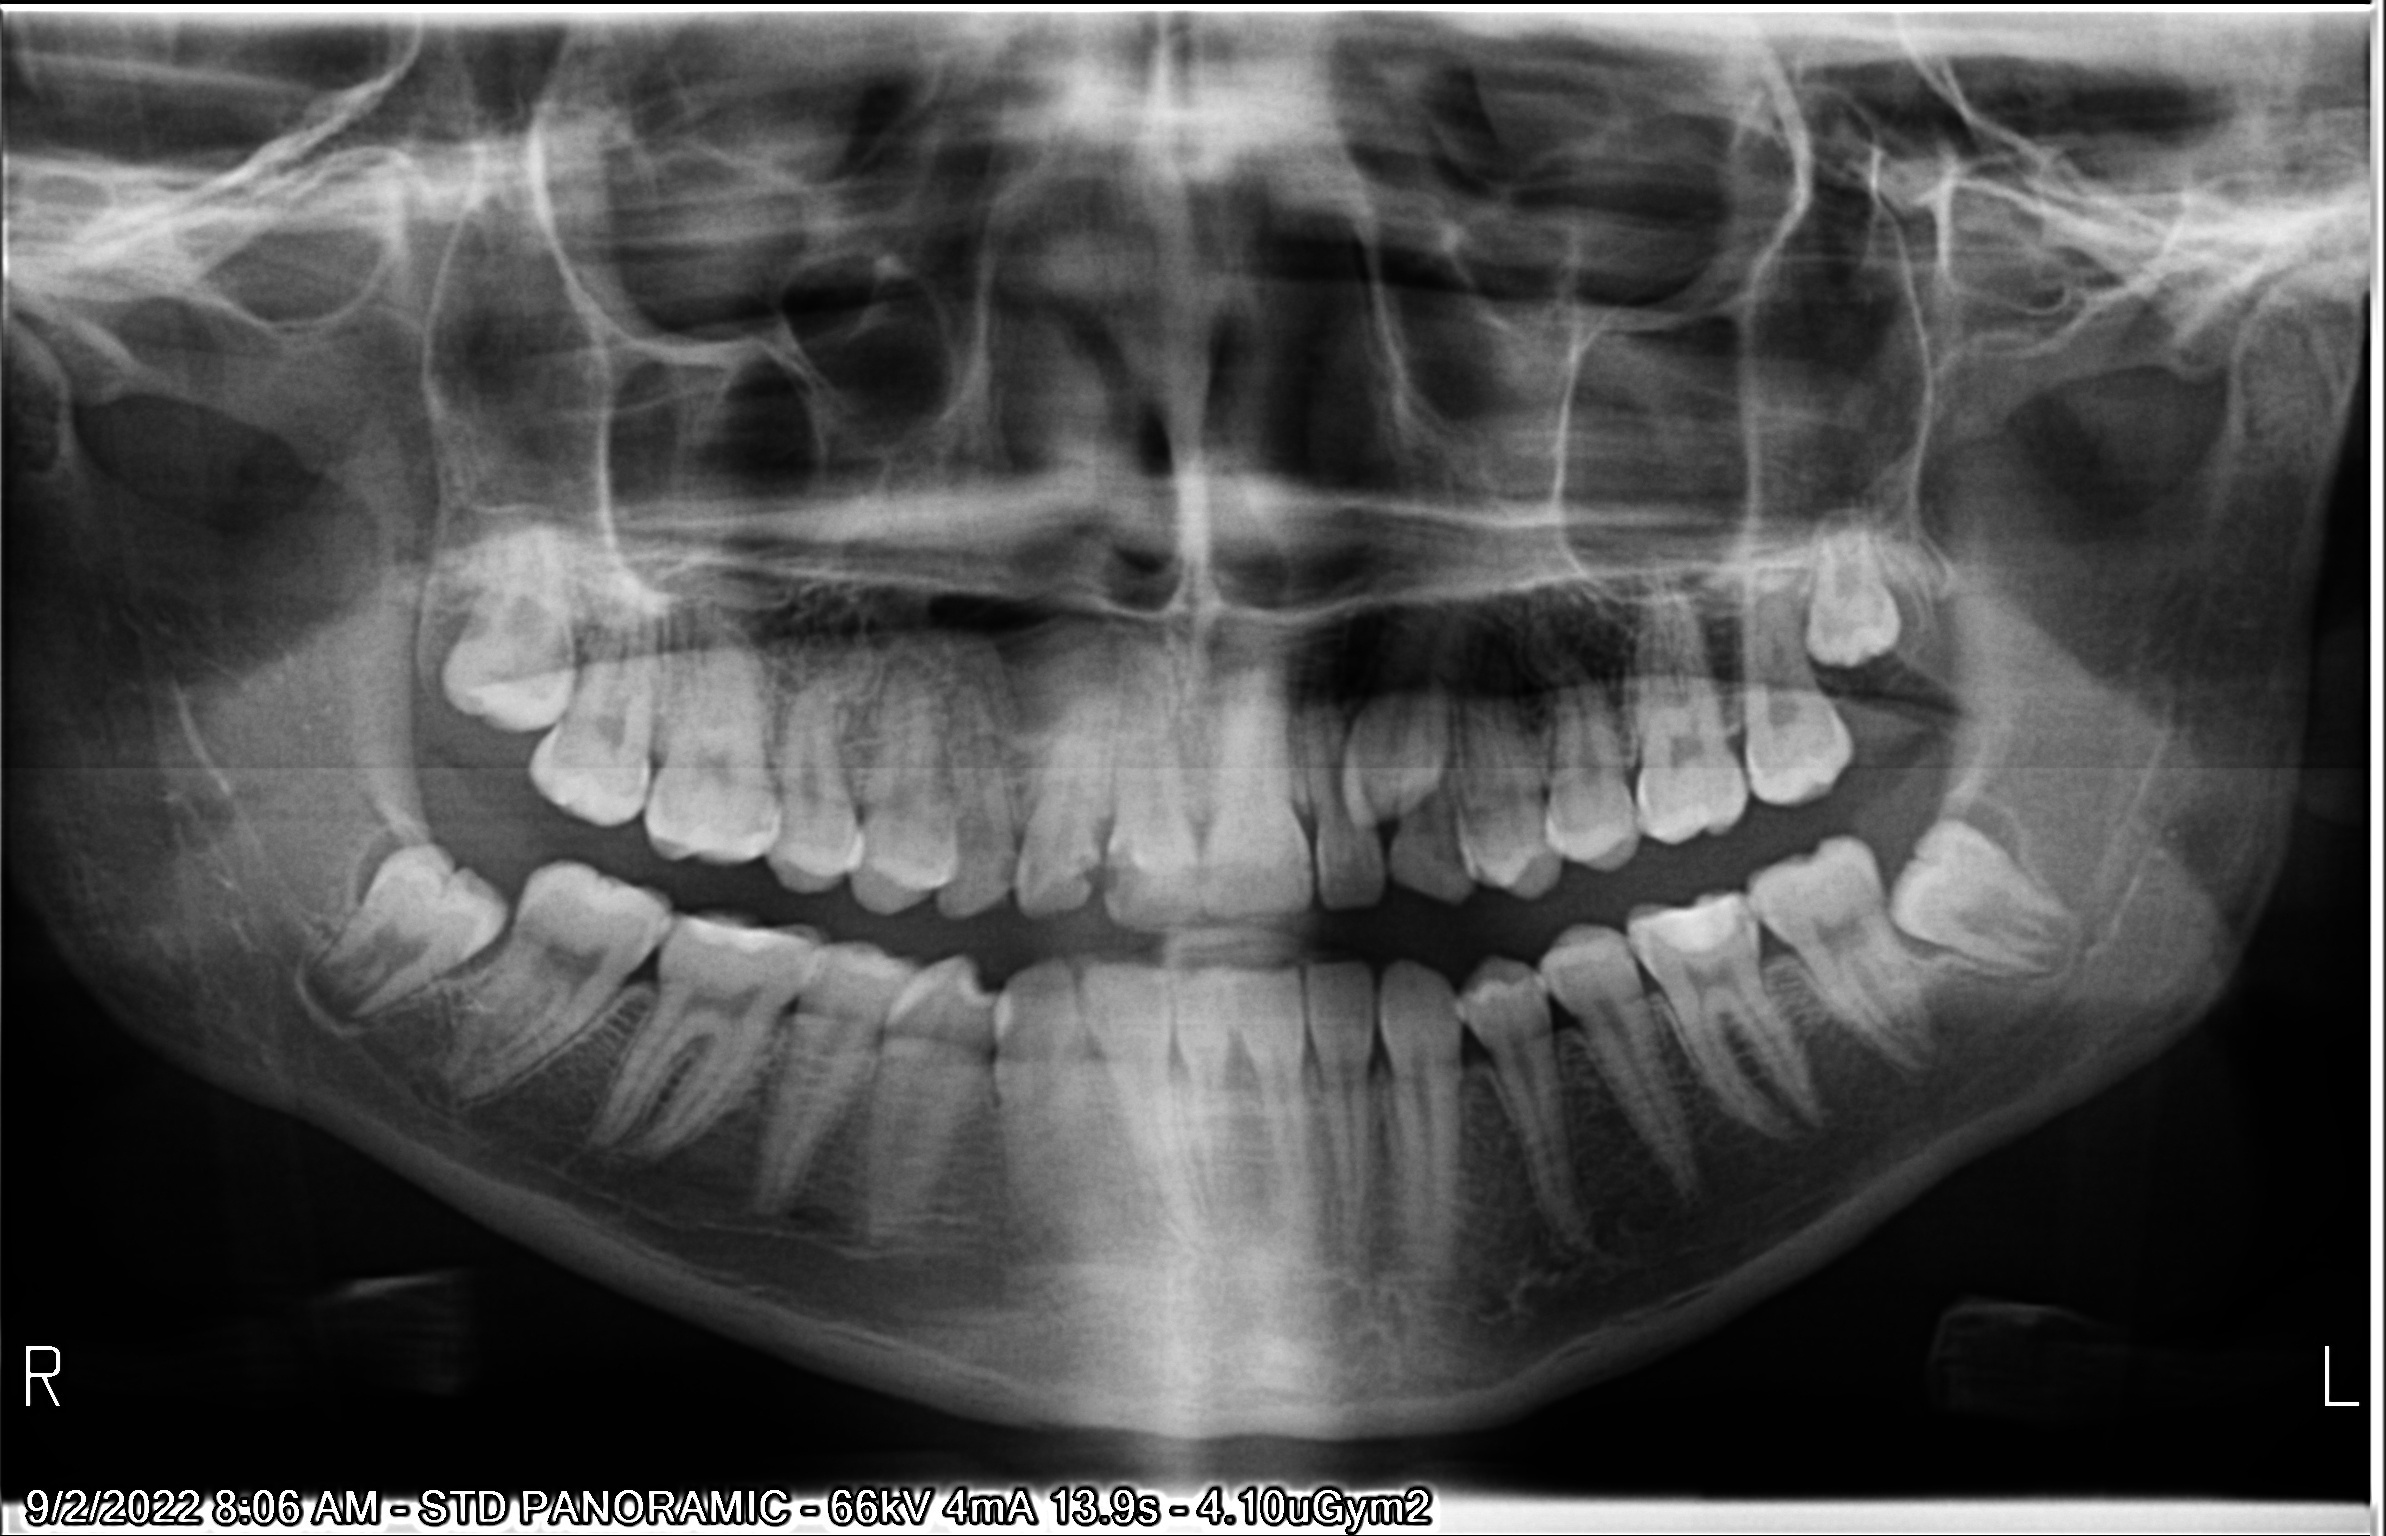CAR: (998, 854, 1016, 884)
IMT: (1341, 532, 1503, 826)
OBT: (1643, 891, 1743, 953)
